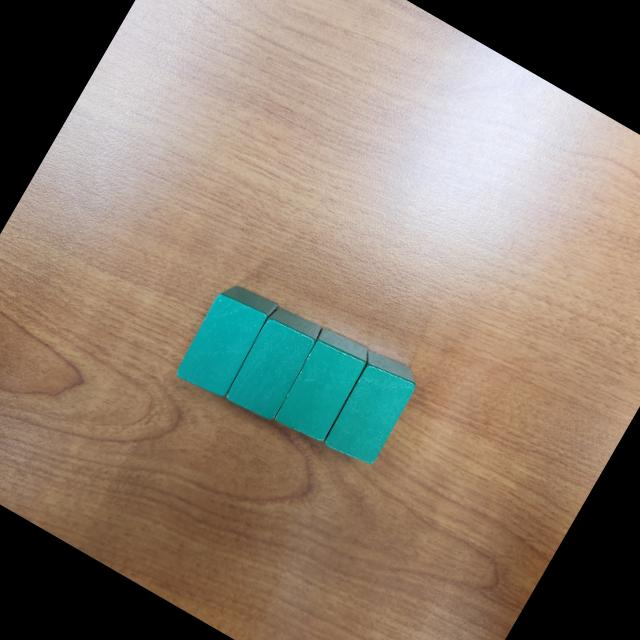green: (170, 274, 280, 404), (314, 344, 424, 472), (270, 322, 376, 448), (222, 301, 326, 425)
